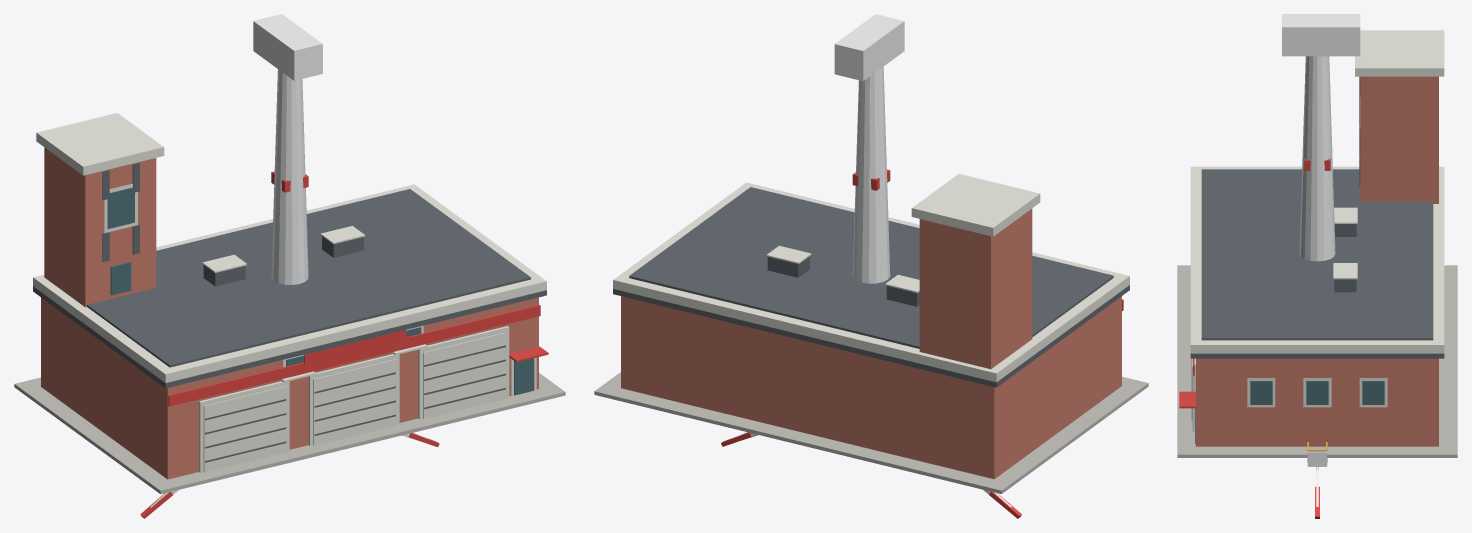
The model's file is landscape-kit-v4.glb.
3 views of the same model, side by side, from view 1: azimuth 30°, elevation 25°; view 2: azimuth 150°, elevation 25°; view 3: azimuth 270°, elevation 25° (orthographic). The views are drawn at different scales.
Visible parts, largest first — view 1: FireStation_DarkRoof, FireStation_WhiteTrim, FireStation_StationBrick, WindTurbineTower_PaintWhite, FireStation_Concrete, FireStation_FireRed, FireStation_DarkGlass; view 2: FireStation_StationBrick, FireStation_DarkRoof, FireStation_WhiteTrim, WindTurbineTower_PaintWhite, FireStation_Concrete; view 3: FireStation_DarkRoof, FireStation_StationBrick, FireStation_WhiteTrim, WindTurbineTower_PaintWhite, FireStation_Concrete, FireStation_DarkGlass, FireStation_FireRed.
Part boxes in pixels (x1,y1,x2,y2): FireStation_DarkRoof: [33, 162, 546, 462]; FireStation_WhiteTrim: [33, 113, 546, 472]; FireStation_StationBrick: [41, 147, 538, 479]; WindTurbineTower_PaintWhite: [253, 14, 322, 284]; FireStation_Concrete: [14, 373, 565, 494]; FireStation_FireRed: [168, 305, 548, 406]; FireStation_DarkGlass: [107, 187, 534, 395]; FireStation_StationBrick: [621, 208, 1121, 479]; FireStation_DarkRoof: [613, 187, 1129, 387]; FireStation_WhiteTrim: [613, 174, 1129, 382]; WindTurbineTower_PaintWhite: [834, 14, 904, 283]; FireStation_Concrete: [594, 372, 1148, 493]; FireStation_DarkRoof: [1190, 76, 1444, 420]; FireStation_StationBrick: [1196, 76, 1438, 446]; FireStation_WhiteTrim: [1190, 30, 1444, 445]; WindTurbineTower_PaintWhite: [1282, 14, 1360, 261]; FireStation_Concrete: [1177, 265, 1457, 457]; FireStation_DarkGlass: [1195, 97, 1384, 444]; FireStation_FireRed: [1179, 358, 1195, 408].
Bounding box in the file's own units: 24.04 × 25.39 × 15.
